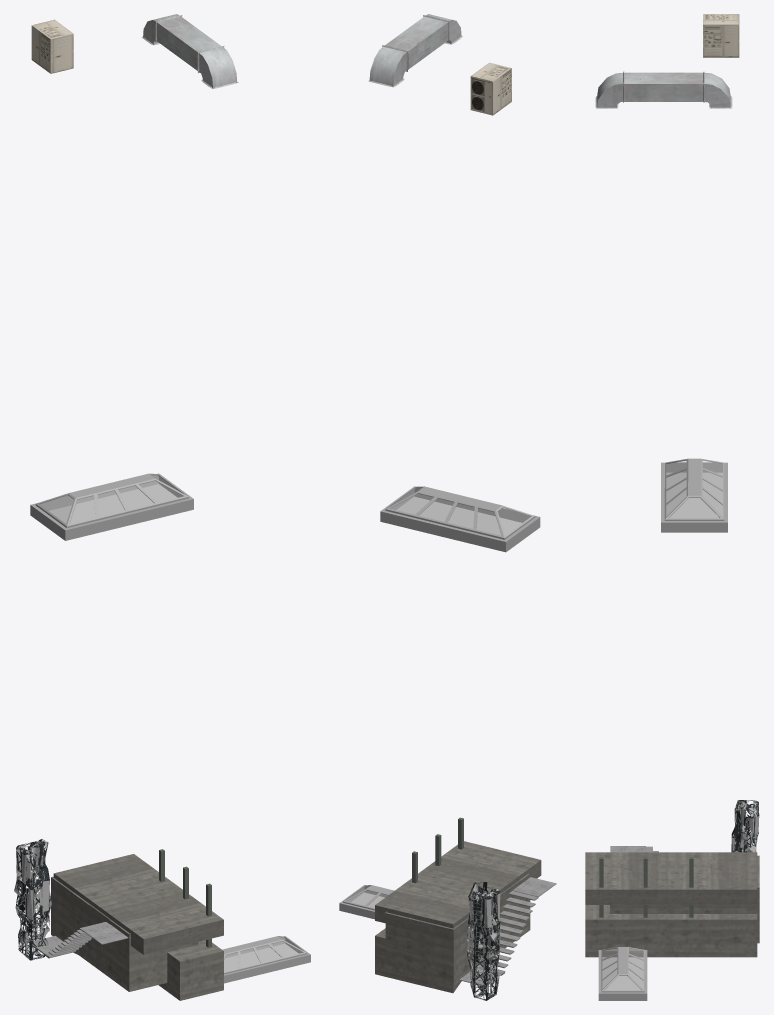
The model's file is nycity_21.gltf.
3 views of the same model, side by side, from view 1: azimuth 30°, elevation 25°; view 2: azimuth 150°, elevation 25°; view 3: azimuth 270°, elevation 25° (orthographic). The views are drawn at different scales.
Parts seen in each view (by area): view 1: nycity_21; view 2: nycity_21; view 3: nycity_21.
Boxes of the visible parts, x1=… form: nycity_21: x1=14, y1=14, x2=310, y2=1000; nycity_21: x1=339, y1=14, x2=556, y2=1000; nycity_21: x1=585, y1=14, x2=759, y2=1000.
Size of the model in its own units: 7.52 by 31.19 by 5.52.
Materials: 7 (4 with a texture image).
